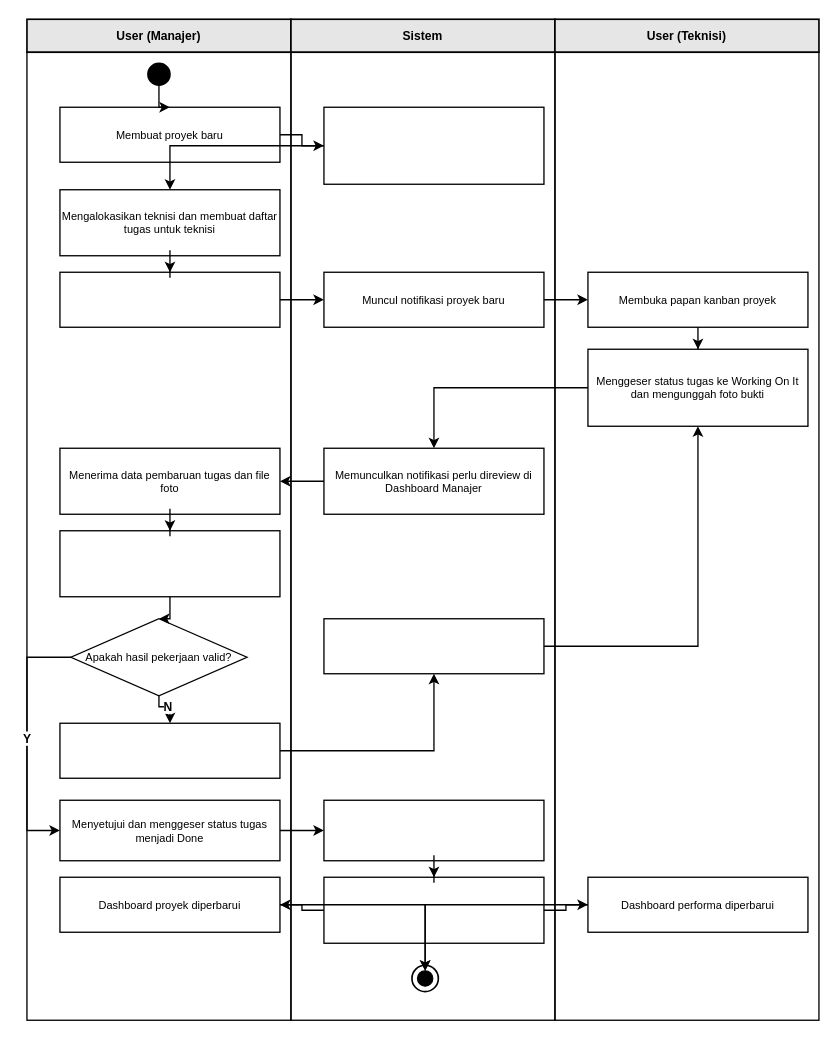
Some shapes in this 839 by 1041 pixel diagram are drawn without their labels. Each missing label, with the centre of its shape:
Membuka detail tugas dan meninjau foto bukti dari teknisi: the point at 169,563
Menampilkan Pesan Tugas Berhasil Diselesaikan ke Kedua Aktor: the point at 433,909
Meneruskan notifikasi revisi ke Teknisi: the point at 433,646
Menghitung SPI dan memperbarui Health Status Proyek: the point at 433,830
Mengirim catatan revisi kepada Teknisi: the point at 169,750
Menyediakan opsi teknisi (available) berdasarkan jadwal yang dipilih: the point at 433,145
Simpan data proyek baru: the point at 169,299
